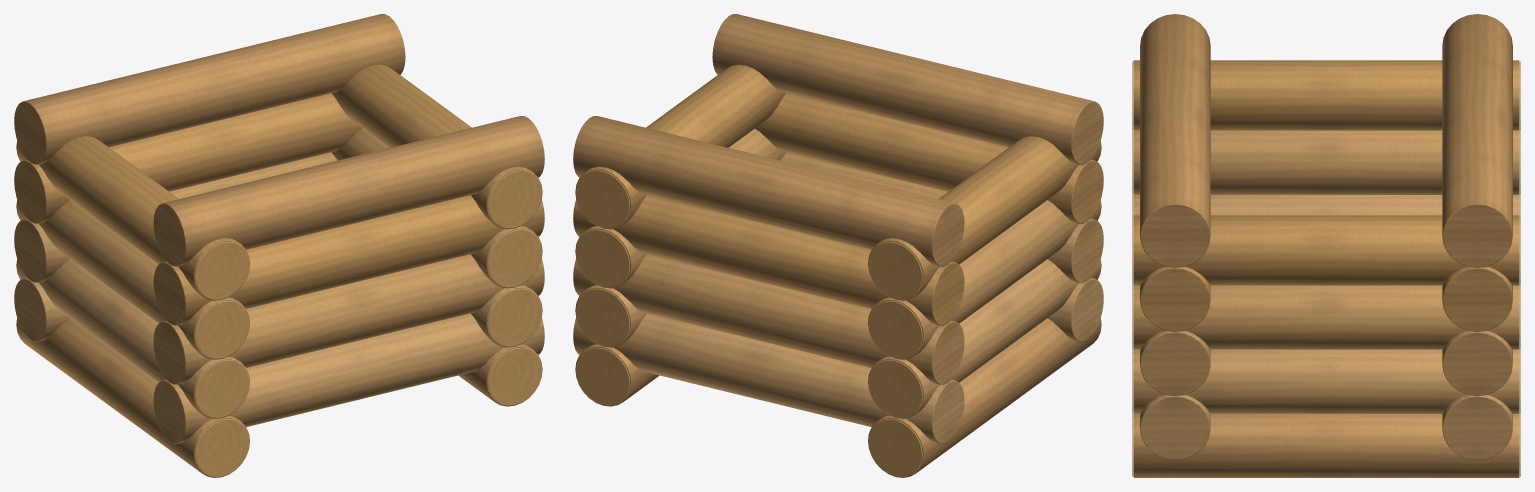
Rendered from 1-crossed-log-courses-1.fbx.
3 views of the same model, side by side, from view 1: azimuth 30°, elevation 25°; view 2: azimuth 150°, elevation 25°; view 3: azimuth 270°, elevation 25° (orthographic). The views are drawn at different scales.
Parts seen in each view (by area): view 1: crossed-log-courses-1; view 2: crossed-log-courses-1; view 3: crossed-log-courses-1.
Part boxes in pixels (x1,y1,x2,y2): crossed-log-courses-1: (14, 14, 544, 477); crossed-log-courses-1: (573, 14, 1103, 477); crossed-log-courses-1: (1132, 14, 1520, 477).
Size of the model in its own units: 7000 by 4950 by 6042.
1 material, 1 textured.
